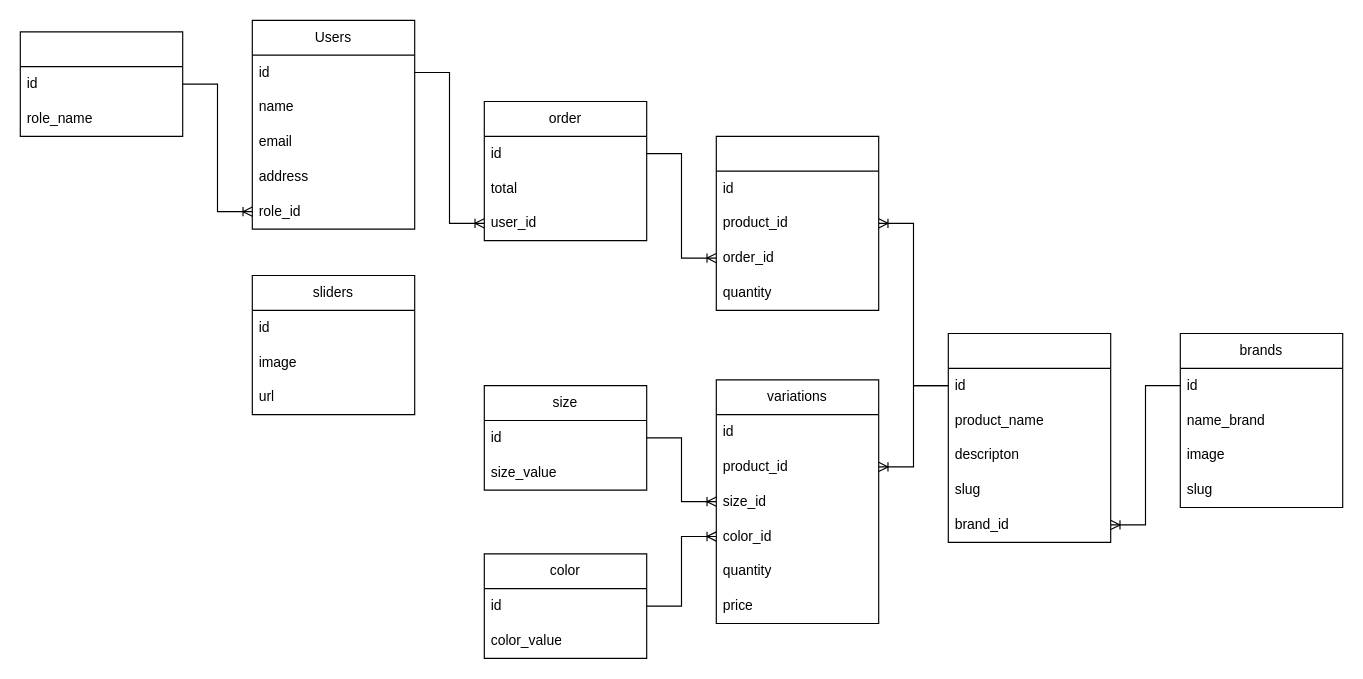
Some shapes in this 1363 by 679 pixel diagram are drawn without their labels. The shapes that lost their labels are listed below. From the top down, each one's box as (x1, y1, x2, y2) in pixels, then its label:
(19, 31, 183, 136): roles
(715, 135, 879, 310): order_detail
(947, 332, 1111, 542): products
